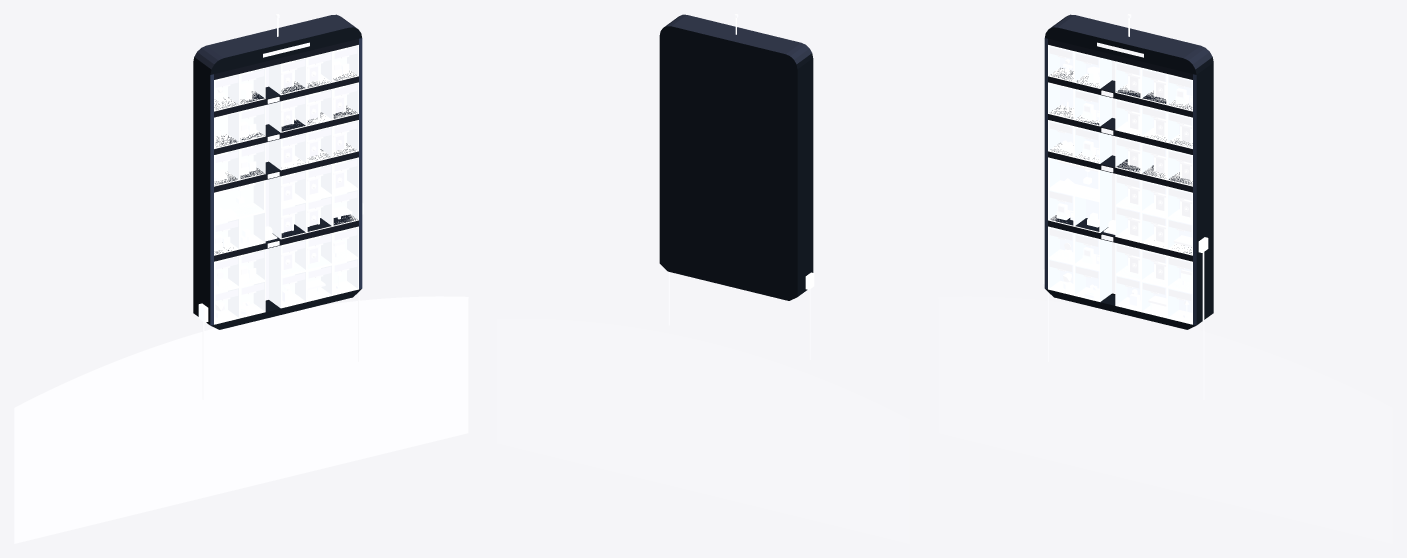
Rendered from hub-cutaway-tall.glb.
3 views of the same model, side by side, from view 1: azimuth 30°, elevation 25°; view 2: azimuth 150°, elevation 25°; view 3: azimuth 330°, elevation 25° (orthographic). The views are drawn at different scales.
Parts seen in each view (by area): view 1: hub_tall_hollow, hub_tall_hull, hub_tall_bay_cargo_hold, hub_tall_bay_mess_bot, hub_tall_bay_cargo_crates, hub_tall_bay_mess_online, hub_tall_bay_cargo_hull, hub_tall_bay_furnace_choir, hub_tall_bay_mess_royale, hub_tall_bay_bridge_ballast, hub_tall_bay_mess_echo, hub_tall_bay_chapel_logs (+18 smaller); view 2: hub_tall_hollow, hub_tall_hull; view 3: hub_tall_hollow, hub_tall_hull, hub_tall_bay_cargo_hold, hub_tall_bay_mess_royale, hub_tall_bay_mess_bot, hub_tall_bay_cargo_assembly, hub_tall_bay_bridge_ranked, hub_tall_bay_cargo_crates, hub_tall_bay_mess_logs, hub_tall_bay_chapel_logs, hub_tall_bay_mess_hotseat, hub_tall_bay_furnace_coop (+23 smaller).
Part boxes in pixels (<box>): hub_tall_hollow: <box>14,296,468,543</box>; hub_tall_hull: <box>193,14,362,329</box>; hub_tall_bay_cargo_hold: <box>214,180,265,223</box>; hub_tall_bay_mess_bot: <box>269,262,306,308</box>; hub_tall_bay_cargo_crates: <box>228,203,265,249</box>; hub_tall_bay_mess_online: <box>321,250,358,295</box>; hub_tall_bay_cargo_hull: <box>269,170,306,207</box>; hub_tall_bay_furnace_choir: <box>269,132,306,170</box>; hub_tall_bay_mess_royale: <box>228,274,265,318</box>; hub_tall_bay_bridge_ballast: <box>269,57,306,95</box>; hub_tall_bay_mess_echo: <box>269,239,306,276</box>; hub_tall_bay_chapel_logs: <box>228,105,265,142</box>; hub_tall_hollow: <box>497,318,909,543</box>; hub_tall_hull: <box>659,14,813,300</box>; hub_tall_hollow: <box>938,296,1392,543</box>; hub_tall_hull: <box>1044,14,1213,329</box>; hub_tall_bay_cargo_hold: <box>1048,157,1111,201</box>; hub_tall_bay_mess_royale: <box>1074,262,1111,301</box>; hub_tall_bay_mess_bot: <box>1115,266,1153,311</box>; hub_tall_bay_cargo_assembly: <box>1115,197,1153,242</box>; hub_tall_bay_bridge_ranked: <box>1074,51,1111,88</box>; hub_tall_bay_cargo_crates: <box>1074,193,1111,232</box>; hub_tall_bay_mess_logs: <box>1074,233,1111,270</box>; hub_tall_bay_chapel_logs: <box>1074,88,1111,126</box>; hub_tall_bay_mess_hotseat: <box>1141,273,1178,318</box>; hub_tall_bay_furnace_coop: <box>1048,120,1085,157</box>.
Size of the model in its own units: 17.48 by 18.4 by 3.03.
